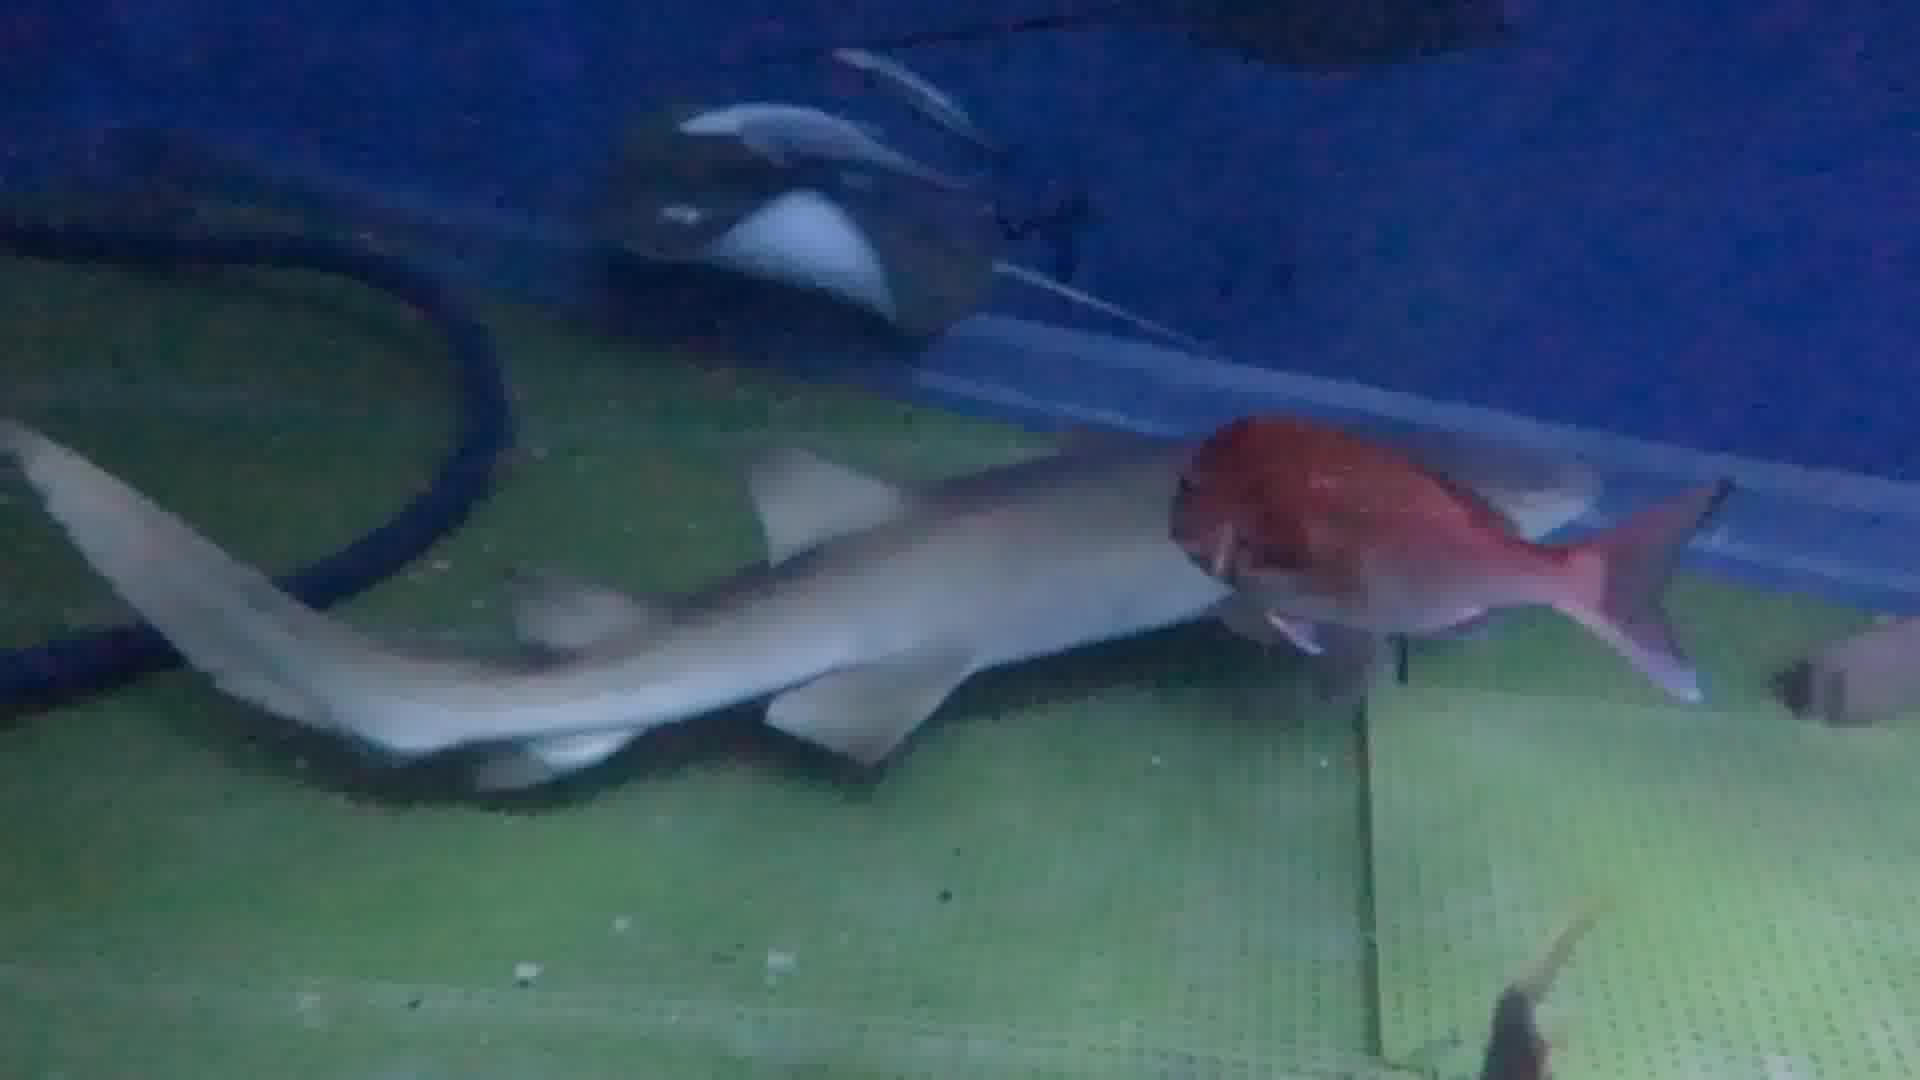Nebrius ferrugineus: (145, 411, 1610, 727)
